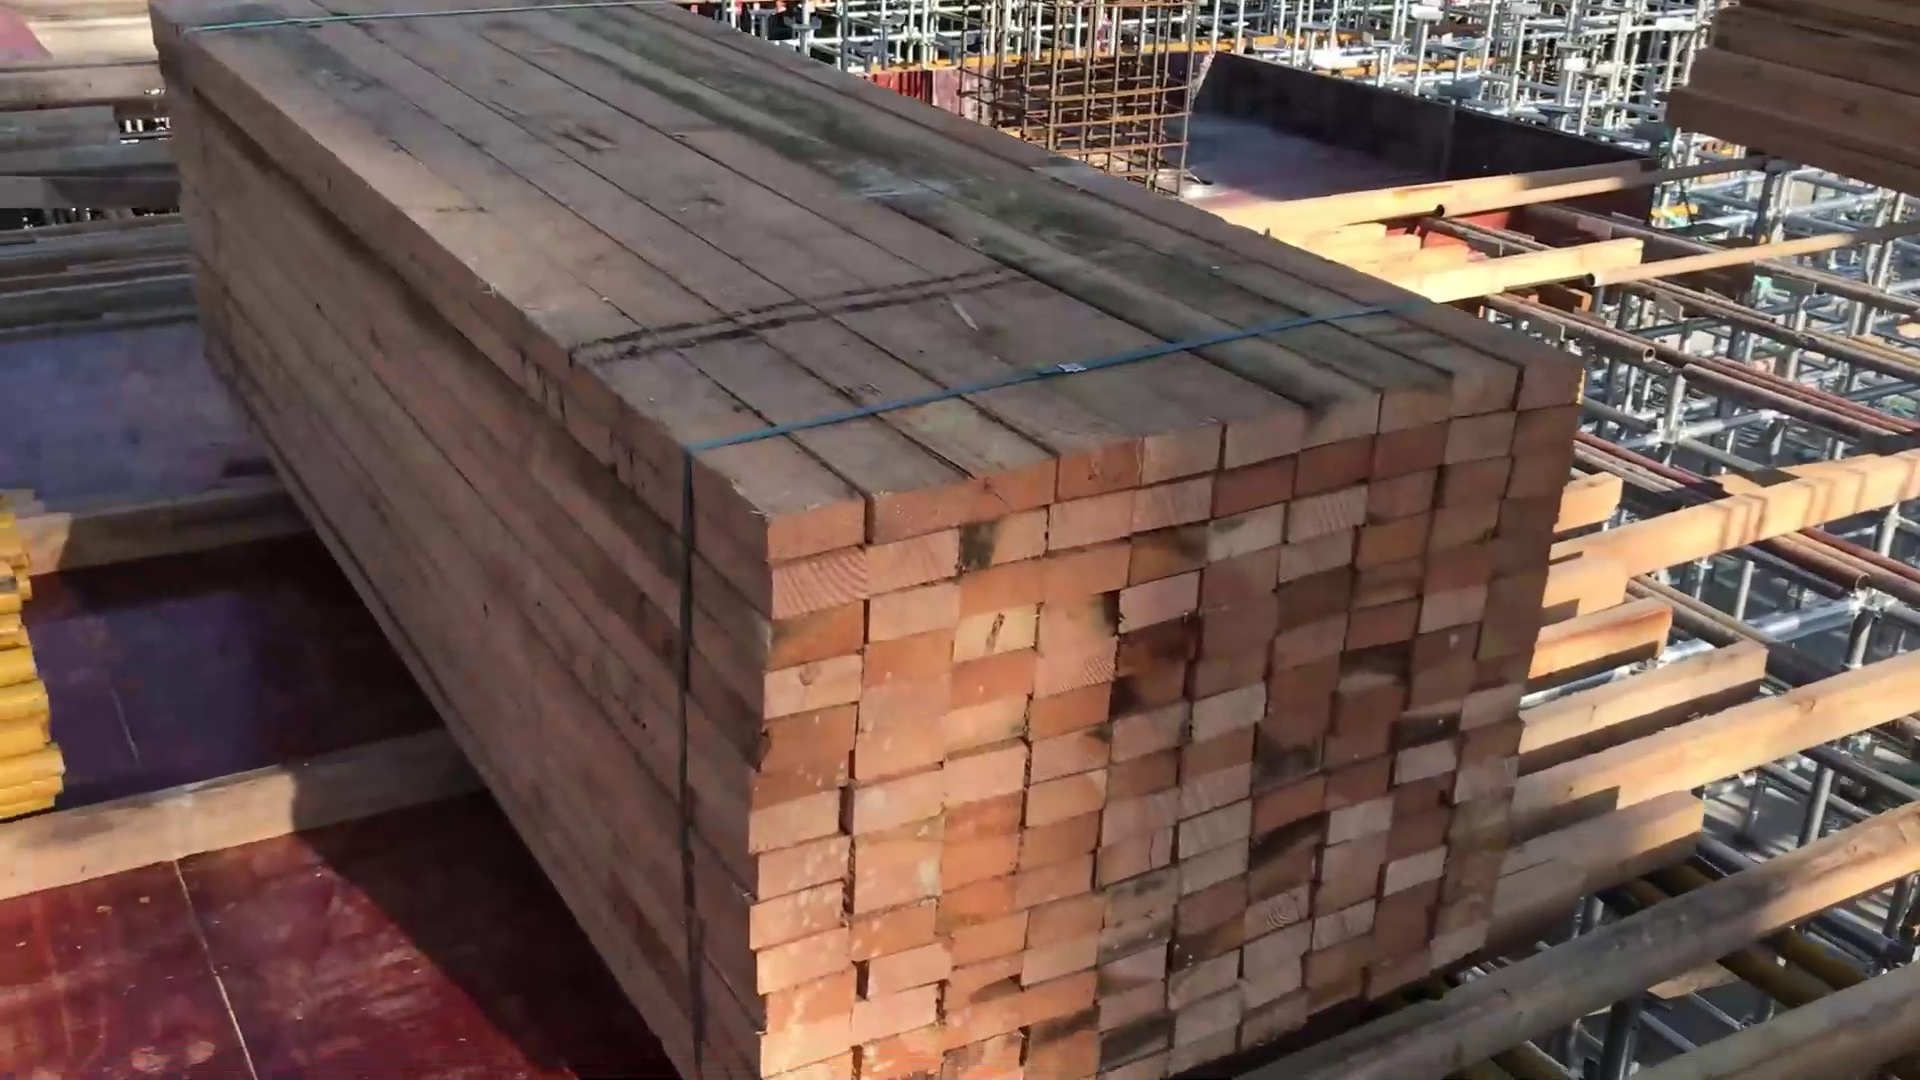wood: (132, 7, 1549, 1069)
